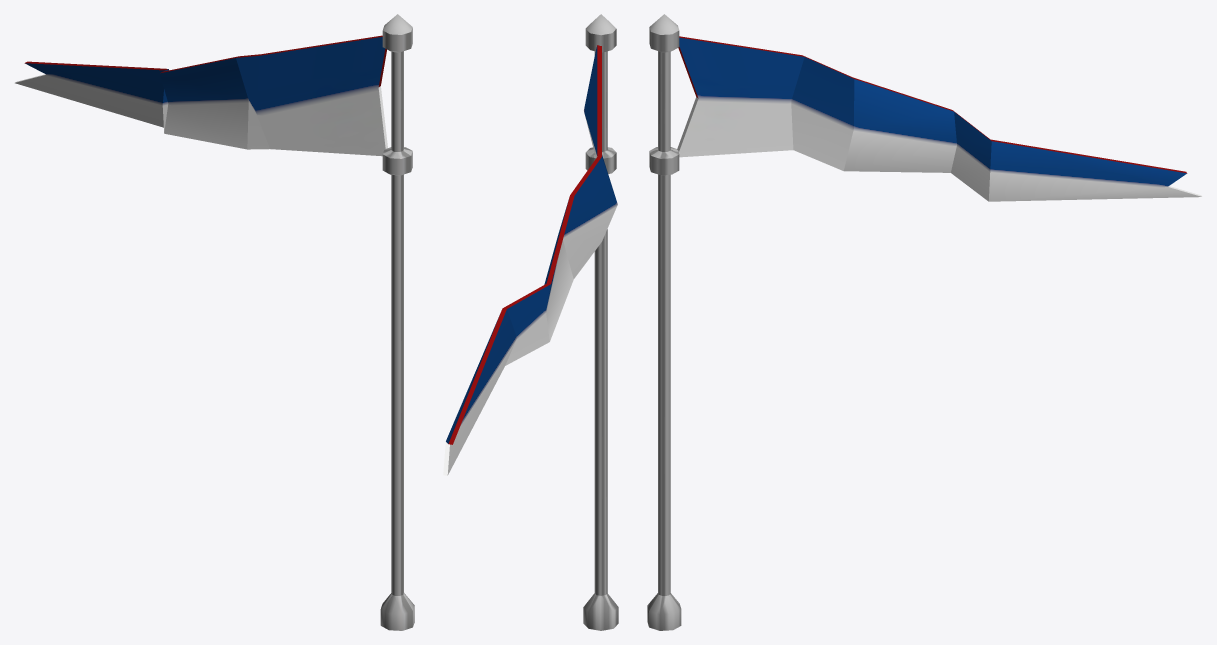
File: Castle-flag-blue.fbx
The picture shows the model from 3 angles, left to right: view 1: azimuth 30°, elevation 25°; view 2: azimuth 150°, elevation 25°; view 3: azimuth 270°, elevation 25°; orthographic projection.
Visible parts, largest first — view 1: Castle-flag-blue; view 2: Castle-flag-blue; view 3: Castle-flag-blue.
Part boxes in pixels (left/top/right/bottom): Castle-flag-blue: left=15, top=14, right=414, bottom=630; Castle-flag-blue: left=443, top=14, right=618, bottom=630; Castle-flag-blue: left=647, top=14, right=1202, bottom=630.
Bounding box in the file's own units: 1.47 × 6.62 × 5.46.
